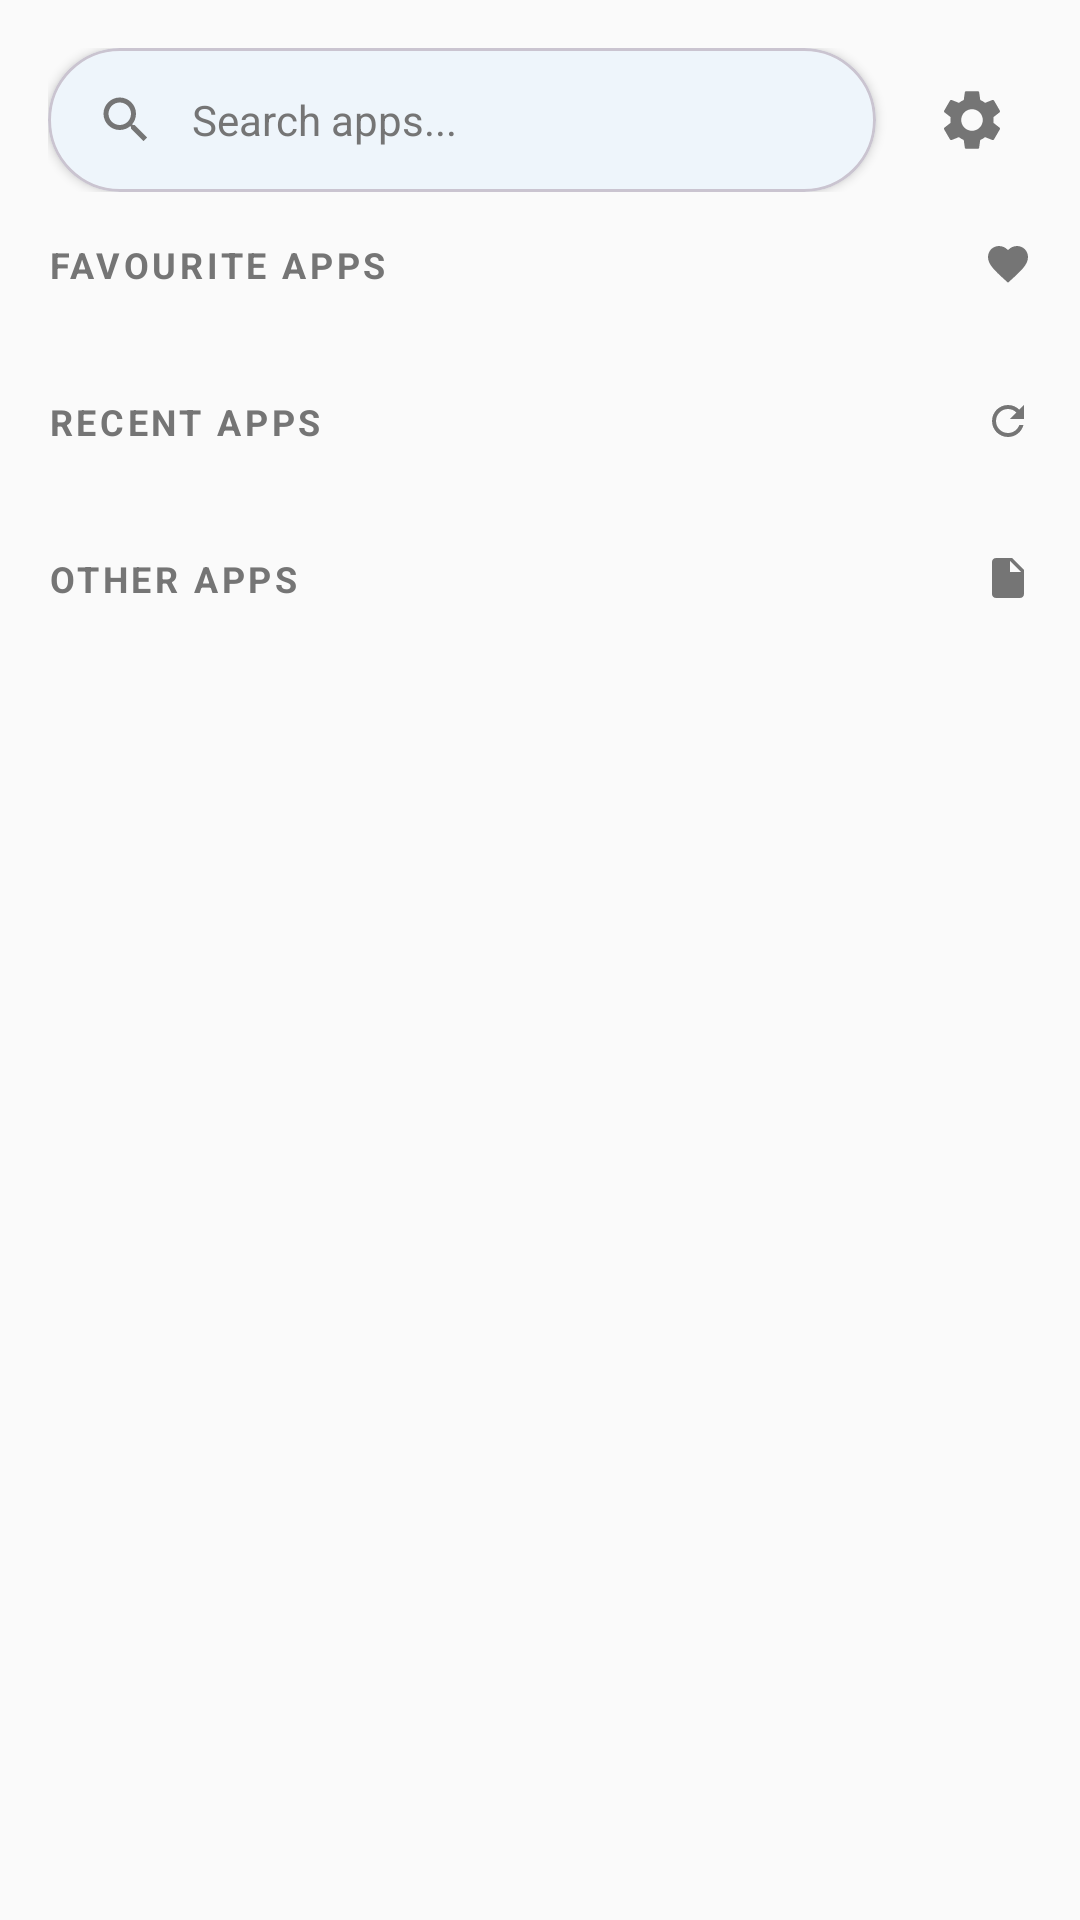

Icon bounding boxes for this 1080w x 1920h phone screenshot, format (x1, y1, x2, y2):
favorite: (988, 246, 1028, 283)
refresh: (992, 405, 1024, 437)
settings: (944, 91, 1000, 149)
